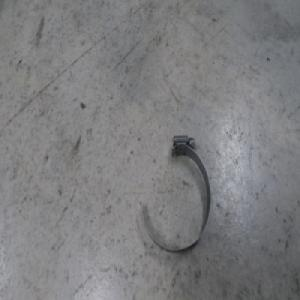AdjustableClamp: (140, 135, 211, 253)
